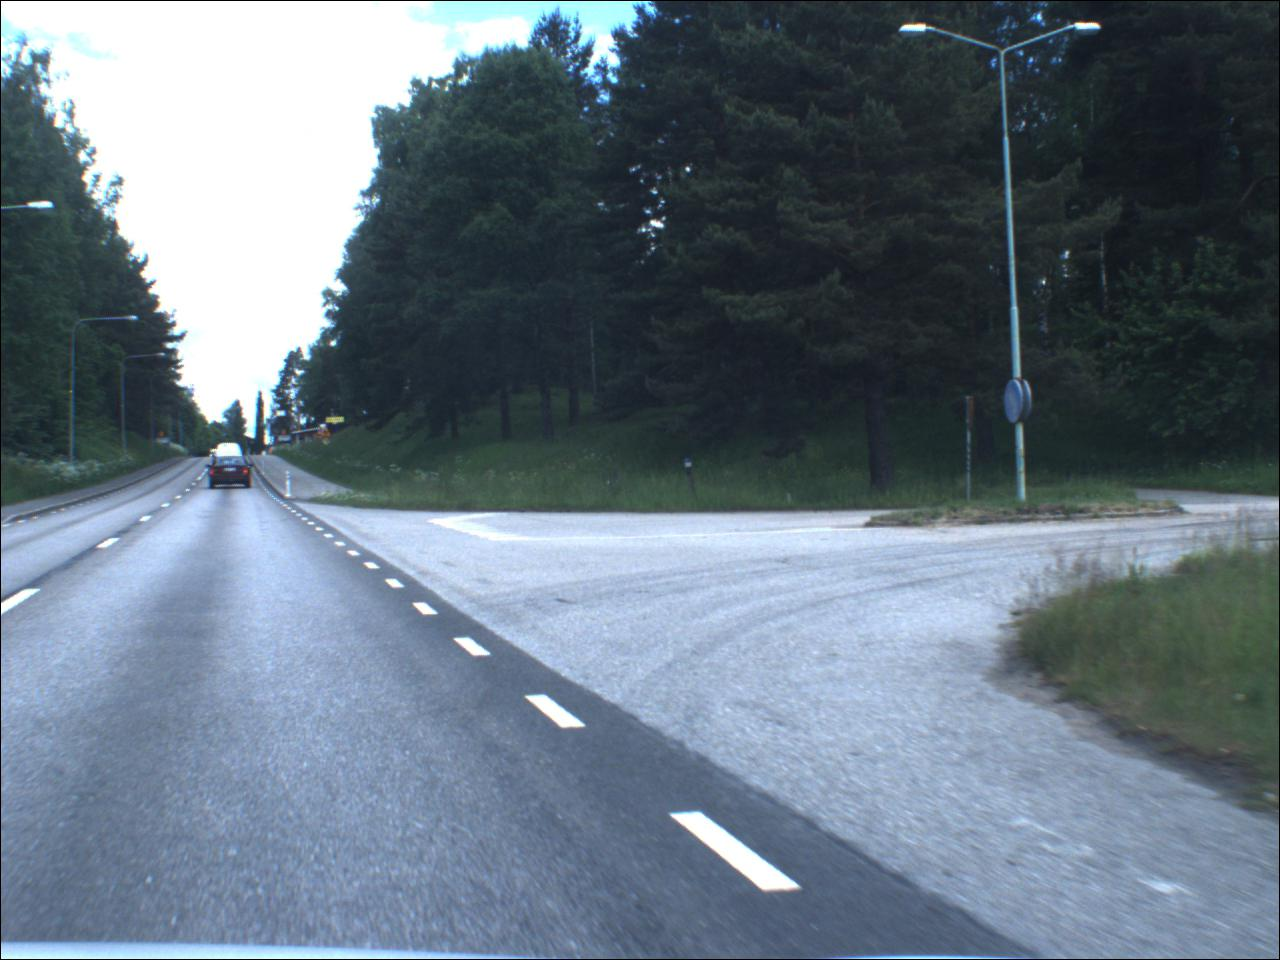PASS_RIGHT_SIDE: (1005, 382, 1029, 424)
PRIORITY_ROAD: (324, 441, 334, 449)
WARNING_CHILDREN: (321, 426, 334, 439)
